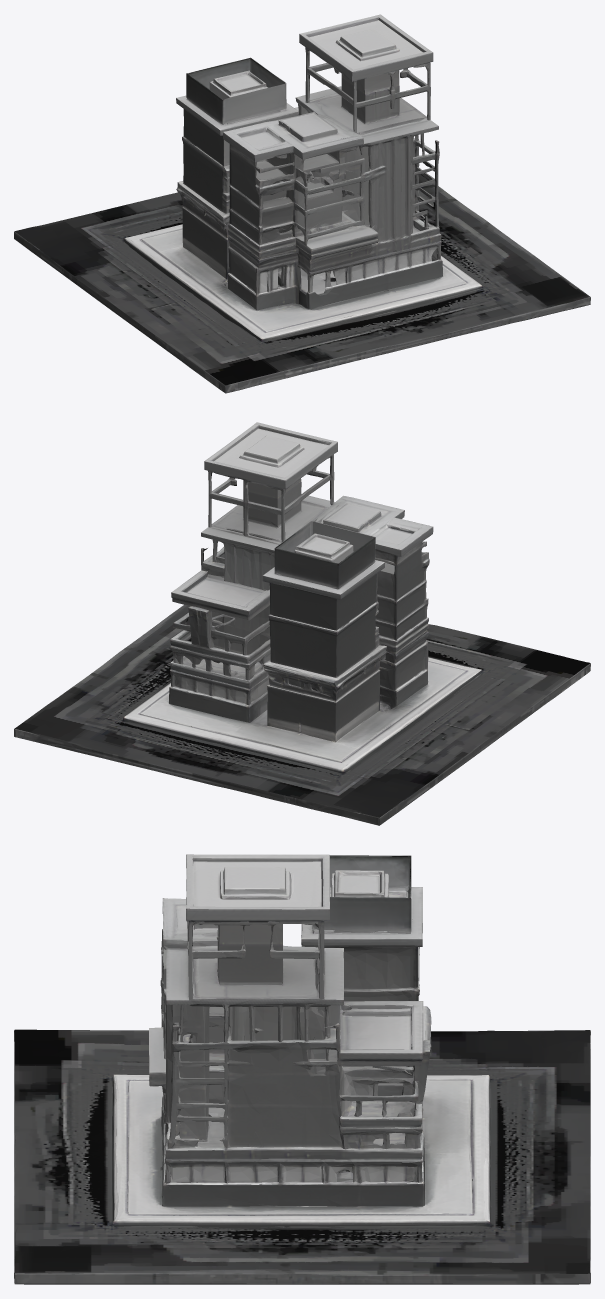
The model's file is EEB_015.glb.
3 renders of one model, top to bottom at view 1: azimuth 30°, elevation 25°; view 2: azimuth 150°, elevation 25°; view 3: azimuth 270°, elevation 25°, orthographic. The views are drawn at different scales.
Parts seen in each view (by area): view 1: world; view 2: world; view 3: world.
Boxes of the visible parts, x1,y1,x2,y2 form: world: [14, 14, 590, 393]; world: [14, 422, 590, 825]; world: [14, 854, 590, 1284].
Size of the model in its own units: 1 by 0.6432 by 1.
Materials: 1 (1 with a texture image).
